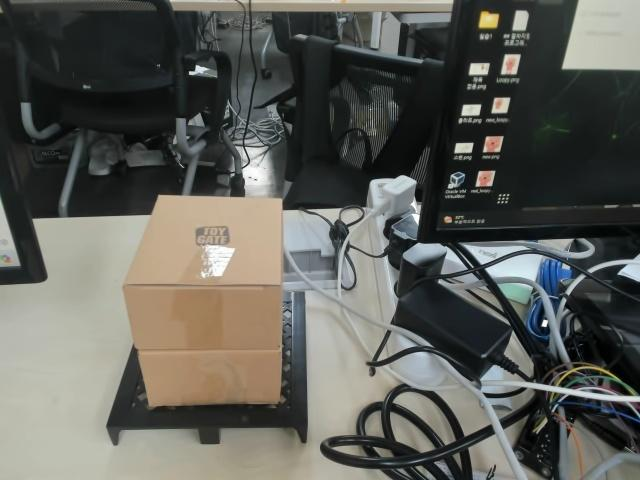box: (107, 194, 312, 447)
